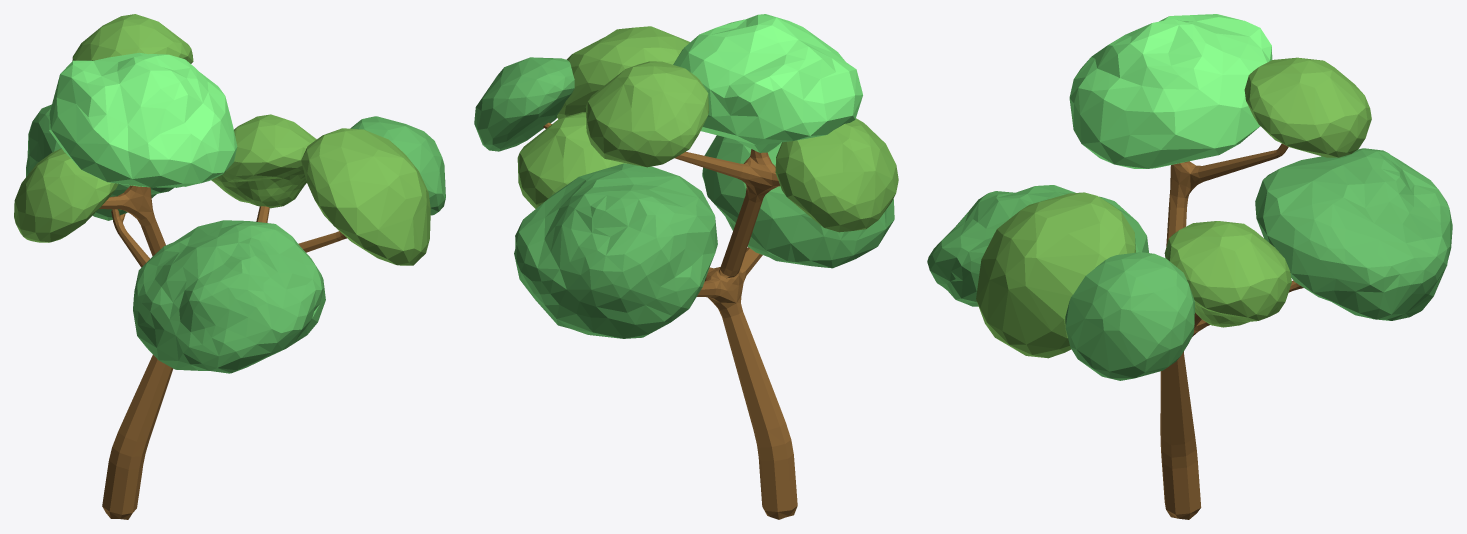
Rendered from tree1.glb.
3 renders of one model, left to right at view 1: azimuth 30°, elevation 25°; view 2: azimuth 150°, elevation 25°; view 3: azimuth 270°, elevation 25°, orthographic. The views are drawn at different scales.
Visible parts, largest first — view 1: tree.002, tree, tree.001, tree.003; view 2: tree, tree.002, tree.001, tree.003; view 3: tree, tree.002, tree.001, tree.003.
Boxes of the visible parts, box(x1,y1,x2,y2) form: tree.002: box(14, 14, 430, 265); tree: box(26, 104, 445, 373); tree.001: box(49, 52, 237, 187); tree.003: box(99, 185, 346, 519); tree: box(474, 57, 894, 338); tree.002: box(517, 26, 898, 232); tree.001: box(673, 14, 862, 152); tree.003: box(543, 122, 797, 519); tree: box(927, 148, 1452, 380); tree.002: box(976, 57, 1371, 358); tree.001: box(1069, 14, 1272, 168); tree.003: box(1160, 143, 1303, 519).
Size of the model in its own units: 10.19 by 11.2 by 10.58.
